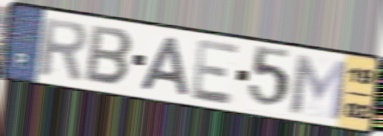5: (246, 45, 293, 115)
A: (136, 35, 192, 98)
B: (83, 22, 136, 88)
E: (190, 37, 243, 108)
M: (289, 52, 350, 123)
R: (38, 15, 89, 83)
